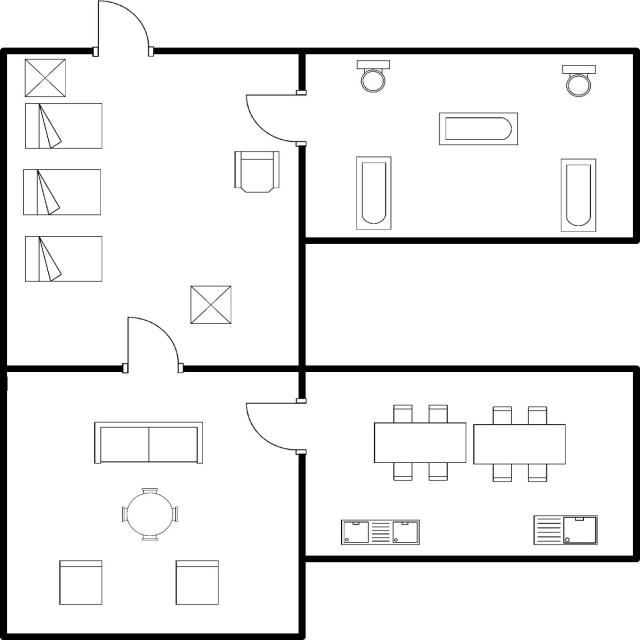armchair: (228, 147, 282, 196)
bed: (18, 230, 106, 286), (19, 166, 105, 220), (20, 100, 105, 154)
coffee_table: (183, 281, 236, 328), (18, 56, 70, 102)
dining_table: (370, 400, 471, 487), (470, 400, 570, 487)
large_sink: (351, 56, 398, 94), (557, 60, 597, 100)
large_sofa: (90, 415, 208, 472)
round_table: (114, 482, 184, 544)
sink: (528, 511, 604, 550)
small_sofa: (54, 555, 108, 609), (170, 554, 222, 608)
tub: (434, 107, 525, 151), (554, 152, 602, 234), (351, 150, 395, 233)
twin_sink: (336, 513, 424, 548)
